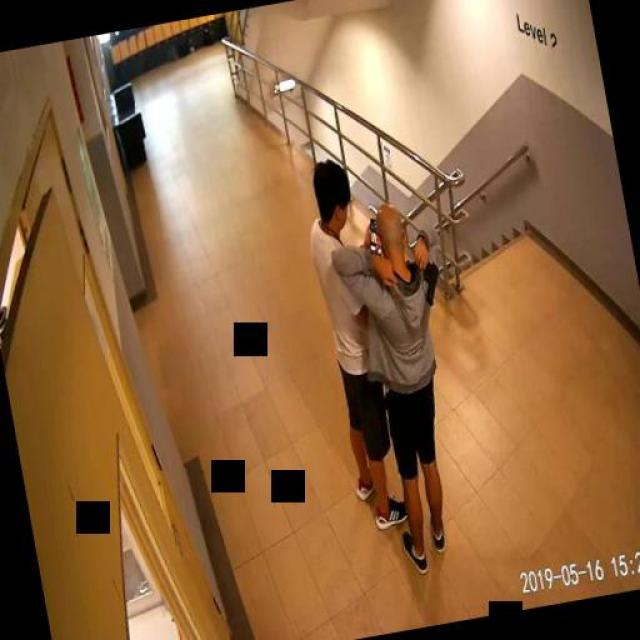gun: (414, 249, 441, 306)
